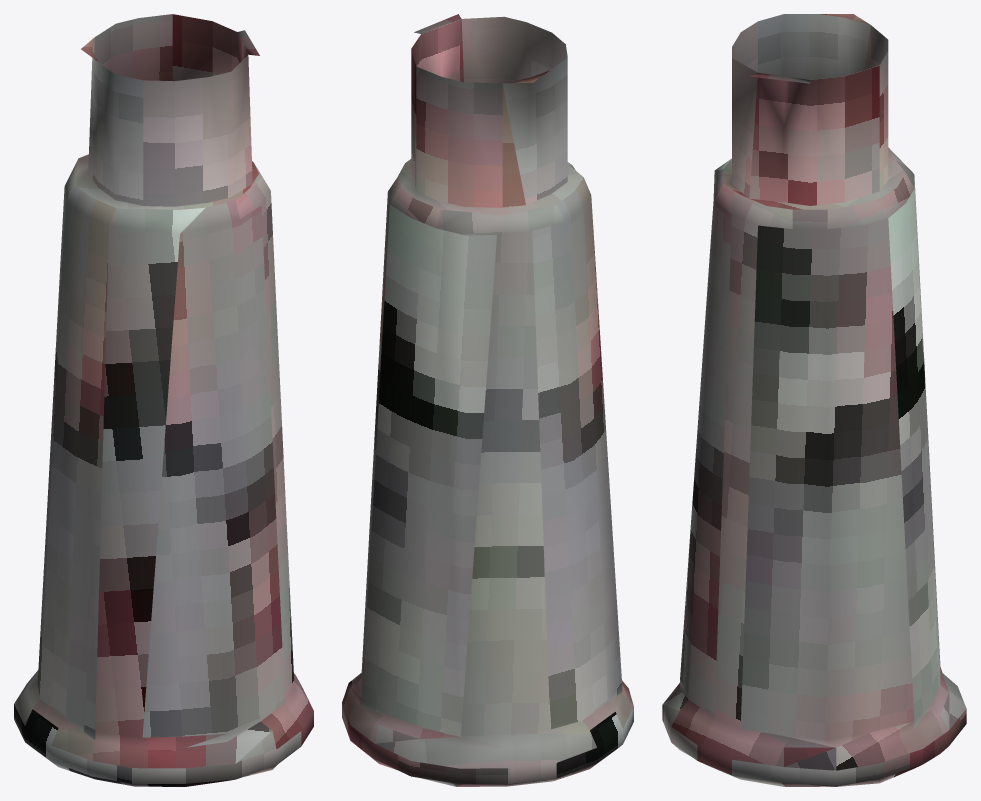
Rendered from fire+extinguisher_grip.fbx.
3 views of the same model, side by side, from view 1: azimuth 30°, elevation 25°; view 2: azimuth 150°, elevation 25°; view 3: azimuth 270°, elevation 25° (orthographic).
Visible parts, largest first — view 1: tripo_part_25; view 2: tripo_part_25; view 3: tripo_part_25.
Part boxes in pixels (x1,y1,x2,y2): tripo_part_25: (14,14,313,786); tripo_part_25: (342,14,633,786); tripo_part_25: (662,14,966,786).
Size of the model in its own units: 0.0665 by 0.1703 by 0.0685.
